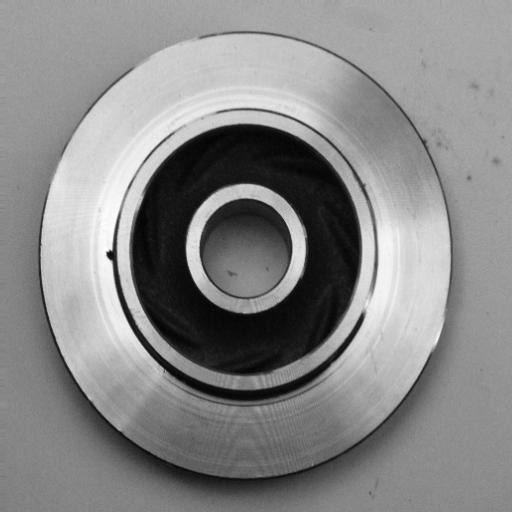crack: (99, 241, 124, 271)
unpolished_casting: (37, 31, 457, 488)
